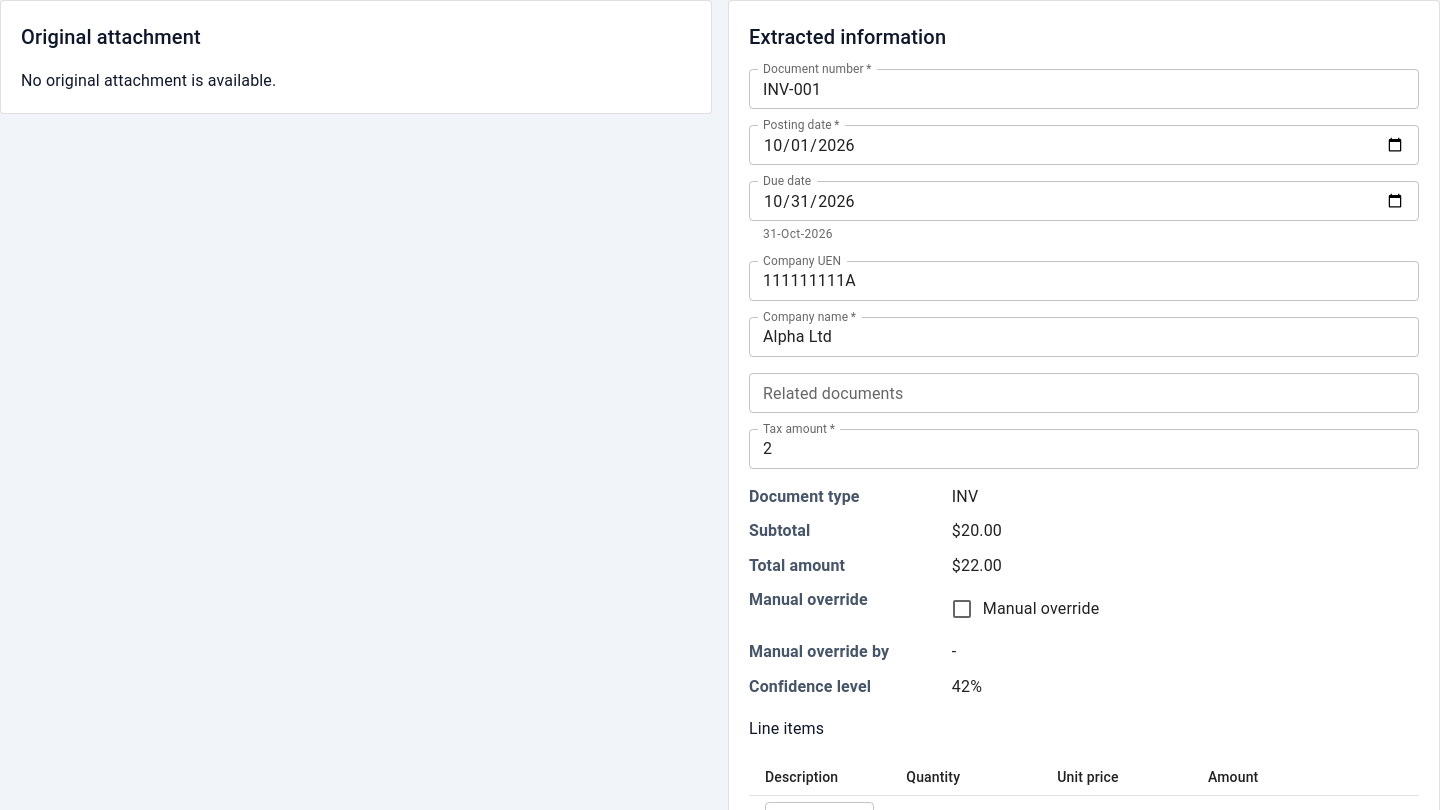
DocumentInfo edit mode › locks the company name to the registered company when the UEN exists
Replace the text in the field labelled "Company UEN" with "555E" at (1084, 281), box [749,261,1419,301]
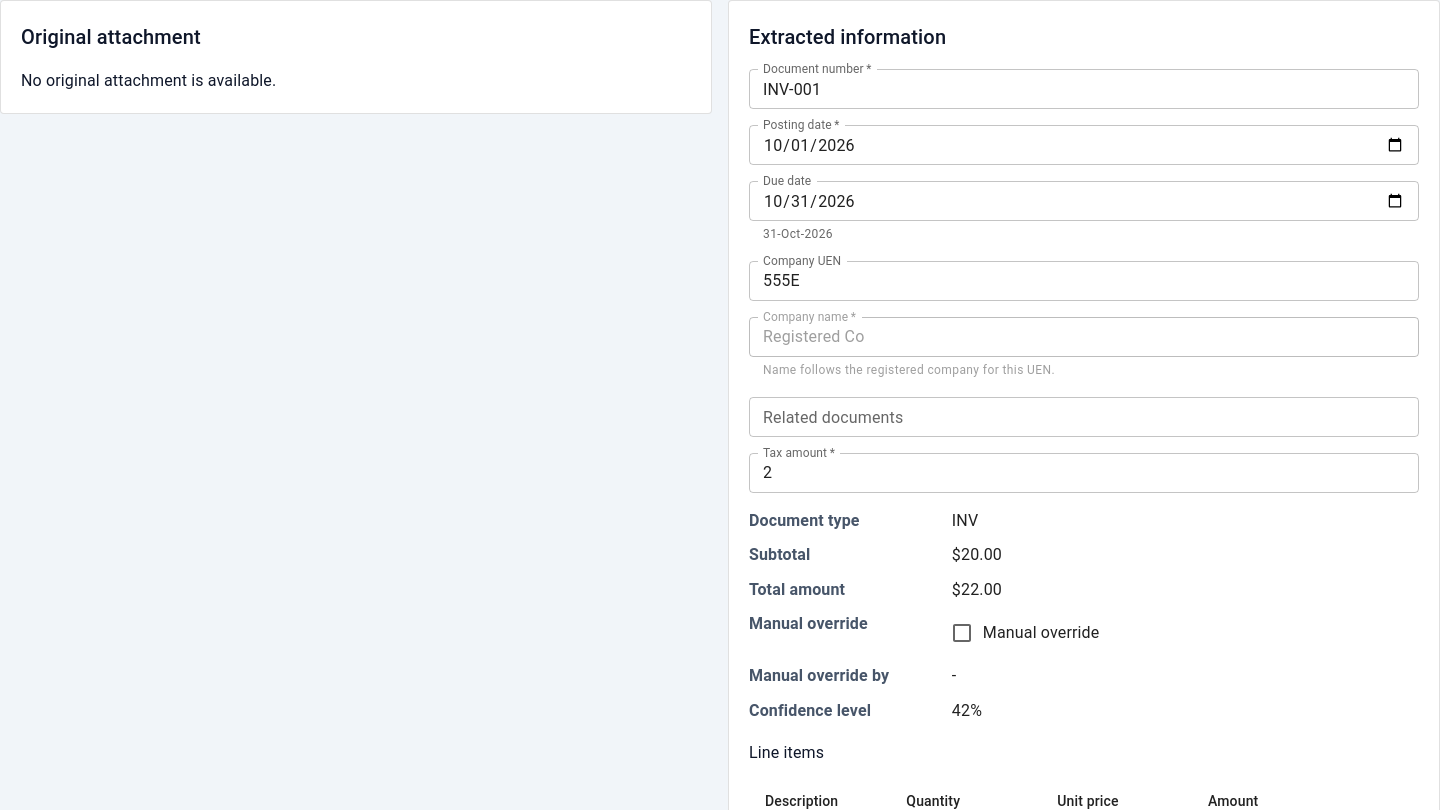
Check: the field labelled "Company name *" holds "Registered Co", box [749,317,1419,357]
Check: the field labelled "Company name *" is disabled, box [749,317,1419,357]
Clear the field labelled "Company UEN" at (1084, 281), box [749,261,1419,301]
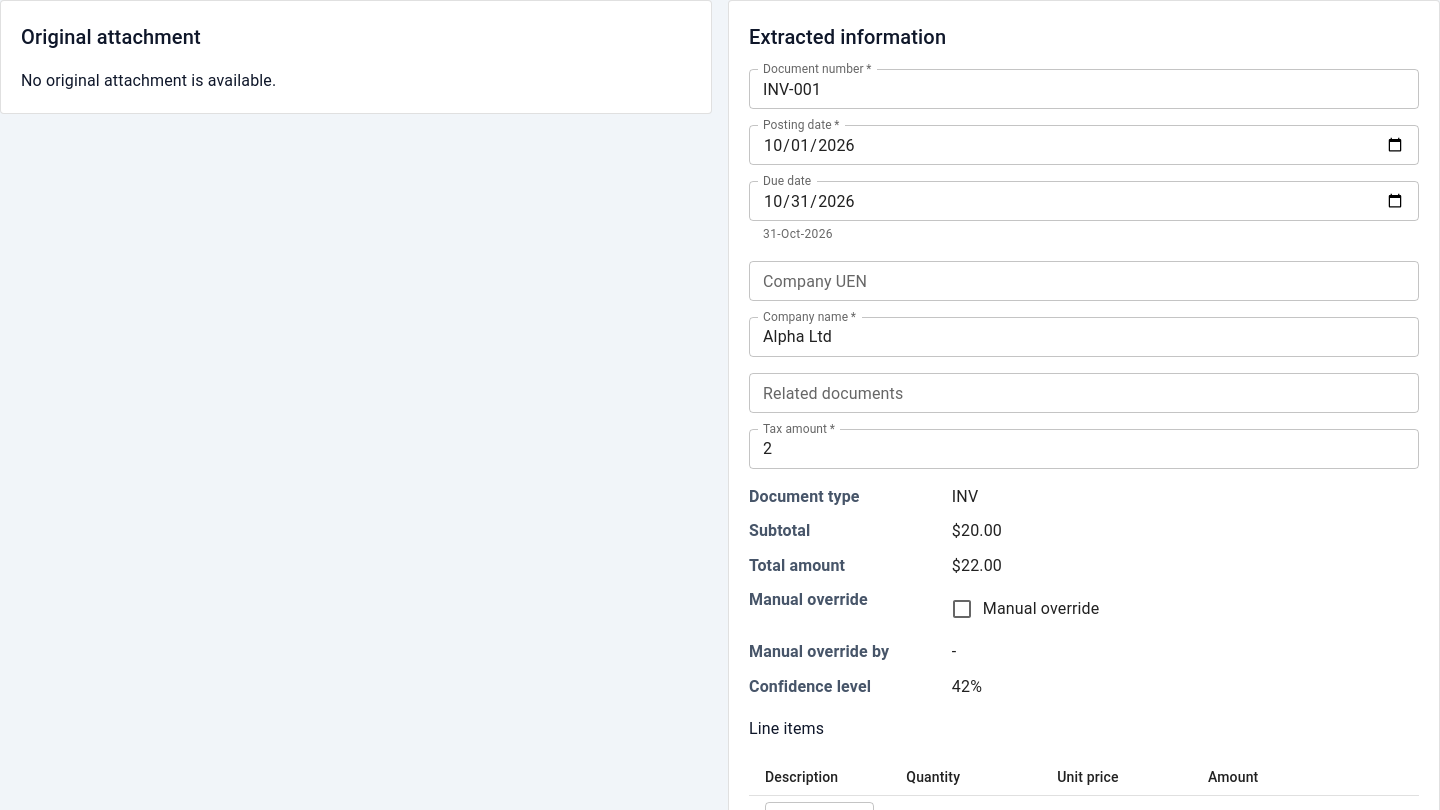
Check: the field labelled "Company name *" is enabled, box [749,317,1419,357]
